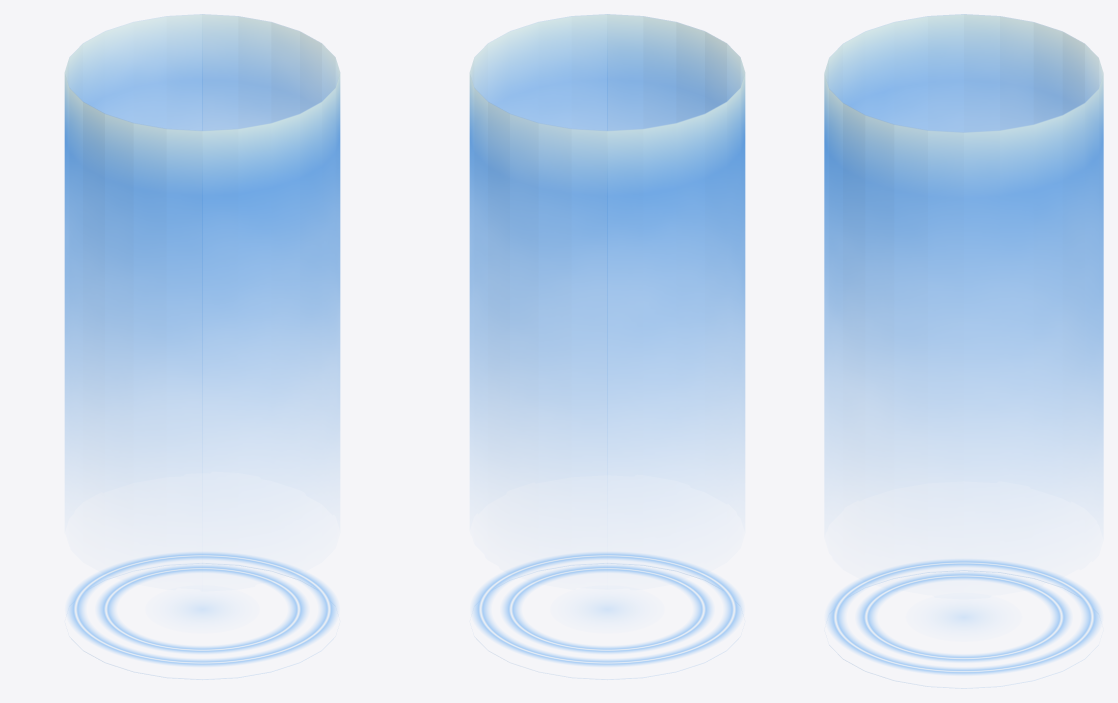
The model's file is fx_levelup.glb.
3 views of the same model, side by side, from view 1: azimuth 30°, elevation 25°; view 2: azimuth 150°, elevation 25°; view 3: azimuth 270°, elevation 25° (orthographic).
Parts seen in each view (by area): view 1: fx_lvl, fx_lvl_ring; view 2: fx_lvl, fx_lvl_ring; view 3: fx_lvl, fx_lvl_ring.
Boxes of the visible parts, bbox=[...] form: fx_lvl: bbox=[64, 14, 340, 679]; fx_lvl_ring: bbox=[67, 552, 337, 666]; fx_lvl: bbox=[469, 14, 745, 679]; fx_lvl_ring: bbox=[472, 552, 742, 666]; fx_lvl: bbox=[824, 14, 1103, 688]; fx_lvl_ring: bbox=[826, 559, 1101, 674].
Size of the model in its own units: 1 by 2.2 by 1.
Materials: 2 (2 with a texture image).
